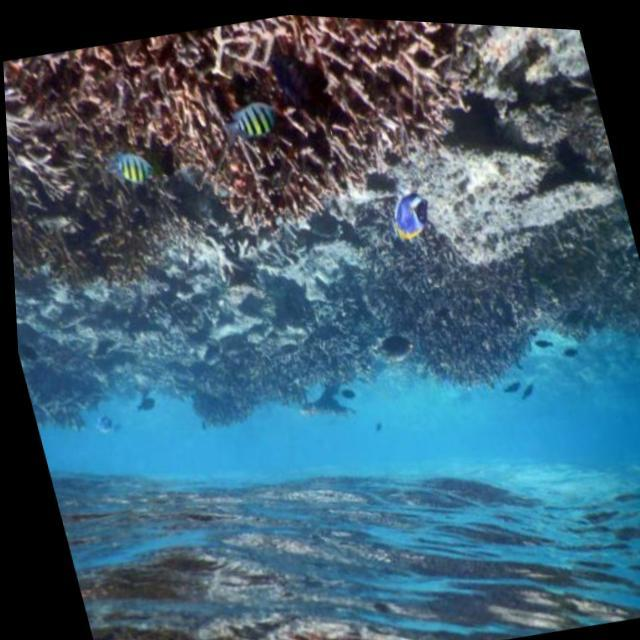Dead Coral: (100, 4, 465, 250), (398, 96, 623, 276), (388, 256, 537, 398)
